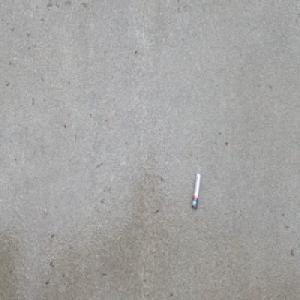Battery: (191, 172, 202, 212)
